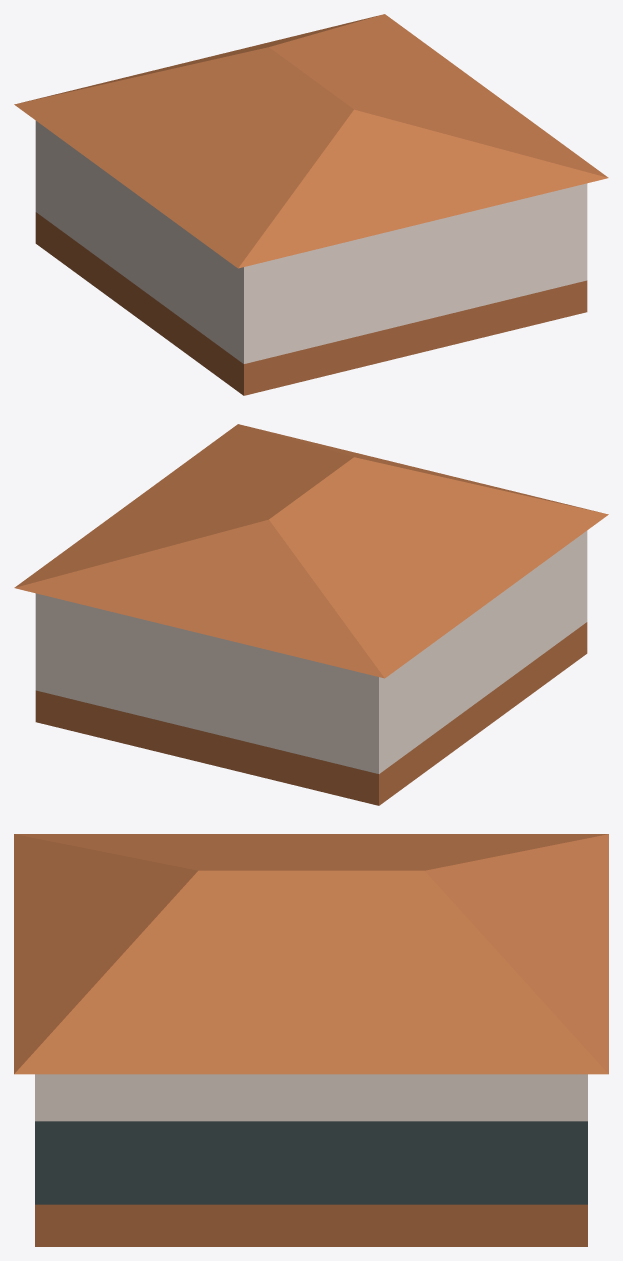
File: far.fbx
3 views of the same model, one above another, from view 1: azimuth 30°, elevation 25°; view 2: azimuth 150°, elevation 25°; view 3: azimuth 270°, elevation 25° (orthographic). The views are drawn at different scales.
Visible parts, largest first — view 1: a2000s2/200/far; view 2: a2000s2/200/far; view 3: a2000s2/200/far.
Boxes of the visible parts, <box> form: a2000s2/200/far: <box>14,14,608,395</box>; a2000s2/200/far: <box>14,424,608,805</box>; a2000s2/200/far: <box>14,834,608,1246</box>.
Bounding box in the file's own units: 10.8 × 5.55 × 11.3.
